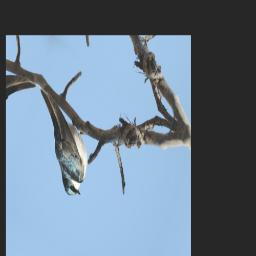Swallow: (21, 86, 99, 204)
